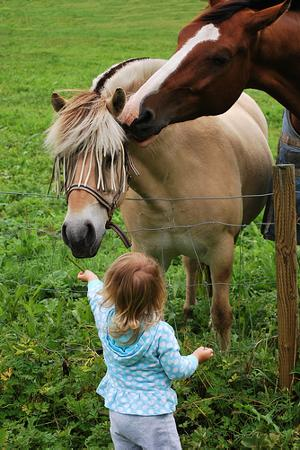person: (78, 251, 215, 449)
